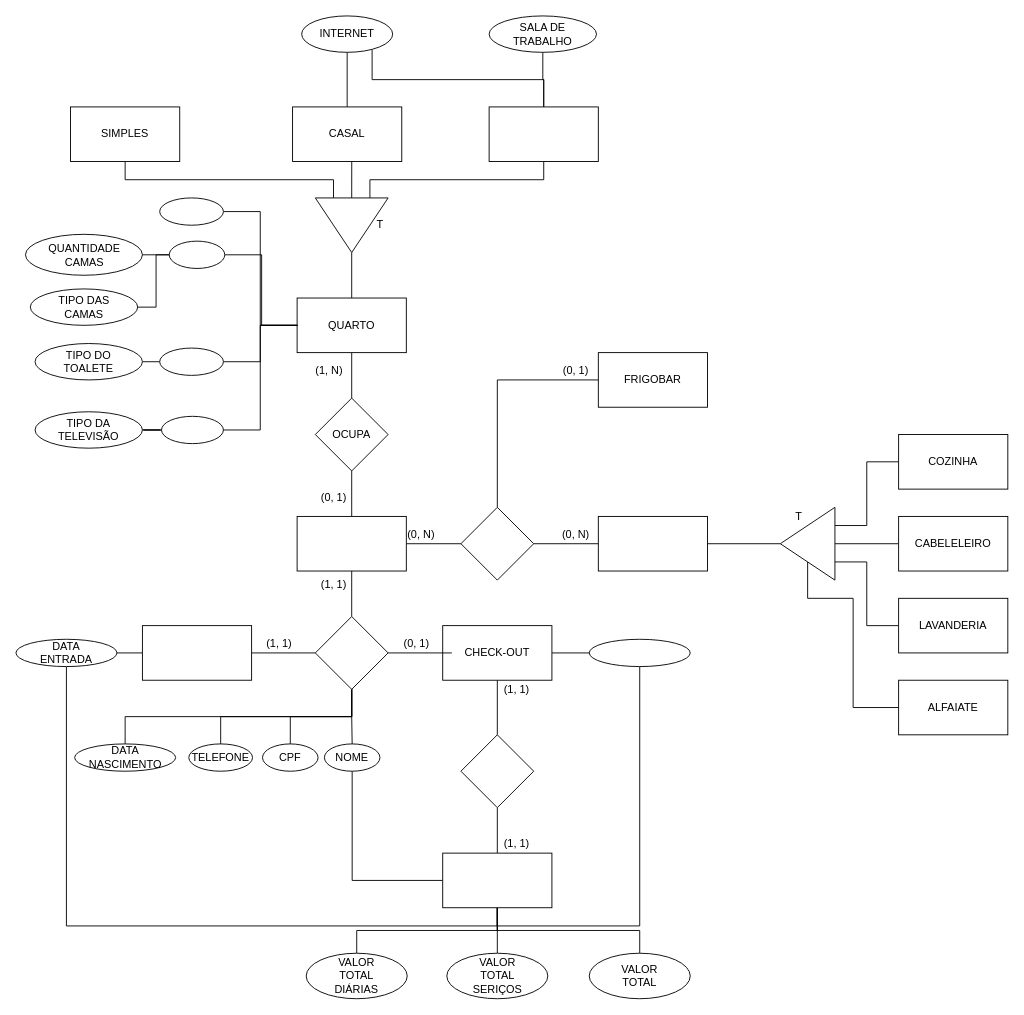
Some shapes in this 1024 by 1015 pixel diagram are drawn without their labels. The box of each missing label's shape, as (x1, y1, x2, y2) in pixels:
CAMA: (168, 240, 225, 268)
CHECK-IN: (142, 625, 252, 680)
CONSOME: (460, 506, 534, 580)
CONTA: (442, 852, 552, 908)
DATA SAÍDA: (588, 638, 690, 667)
ENCERRA: (460, 734, 534, 808)
ESPECIAL: (488, 106, 598, 162)
HÓSPEDE: (296, 516, 406, 571)
NÚMERO: (159, 197, 223, 225)
REALIZA: (314, 616, 388, 689)
SERVIÇO: (597, 516, 708, 571)
TELEVISÃO: (161, 415, 223, 444)
TOALETE: (159, 347, 223, 375)
